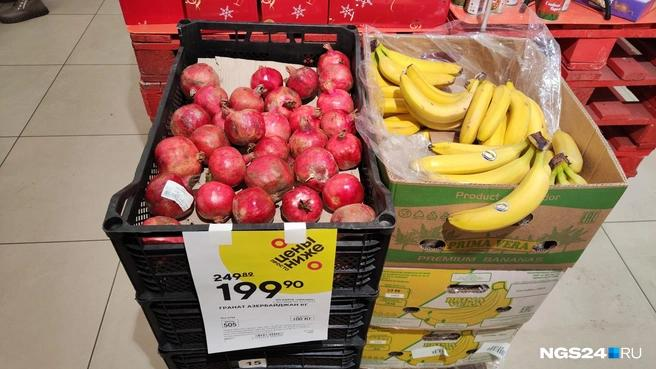banana: (373, 41, 587, 231)
pomegranate: (144, 44, 375, 224)
